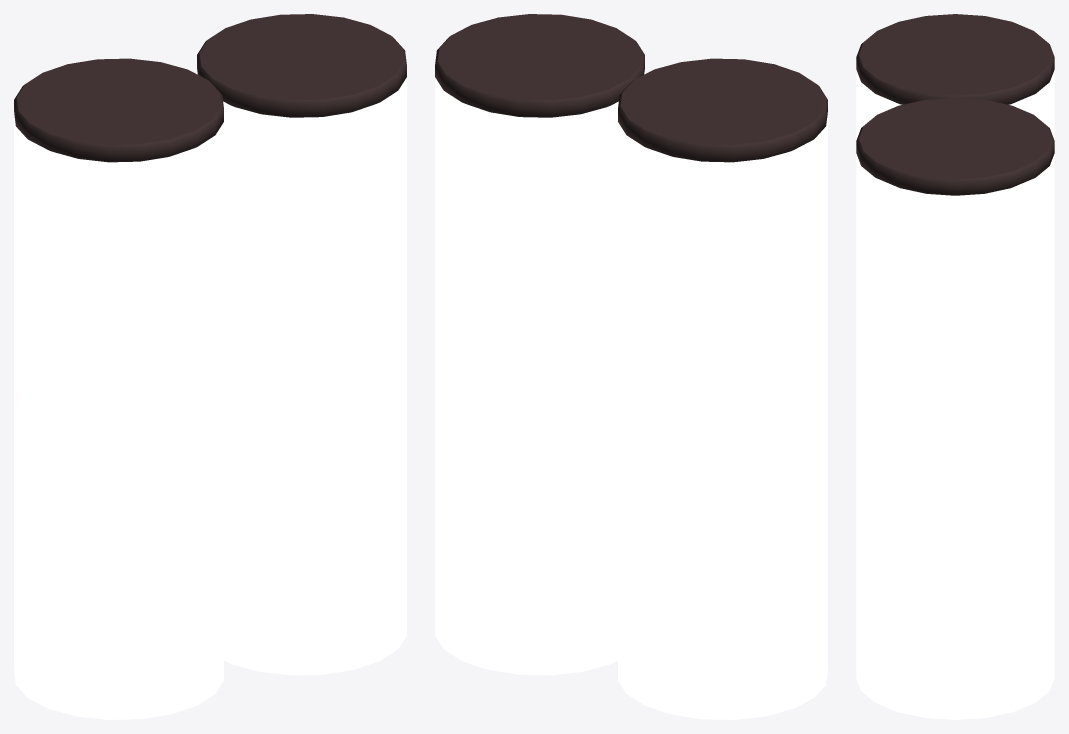
Rendered from 008_pillar_var6.glb.
3 renders of one model, left to right at view 1: azimuth 30°, elevation 25°; view 2: azimuth 150°, elevation 25°; view 3: azimuth 270°, elevation 25°, orthographic. The views are drawn at different scales.
Visible parts, largest first — view 1: pillar_1, pillar_2; view 2: pillar_1, pillar_2; view 3: pillar_2, pillar_1.
Boxes of the visible parts, bbox=[...] form: pillar_1: bbox=[14, 58, 223, 719]; pillar_2: bbox=[197, 14, 406, 675]; pillar_1: bbox=[618, 58, 827, 719]; pillar_2: bbox=[435, 14, 644, 675]; pillar_2: bbox=[856, 98, 1054, 719]; pillar_1: bbox=[856, 14, 1054, 158].
Size of the model in its own units: 1.5 by 2.25 by 0.75.
2 materials, 1 textured.
